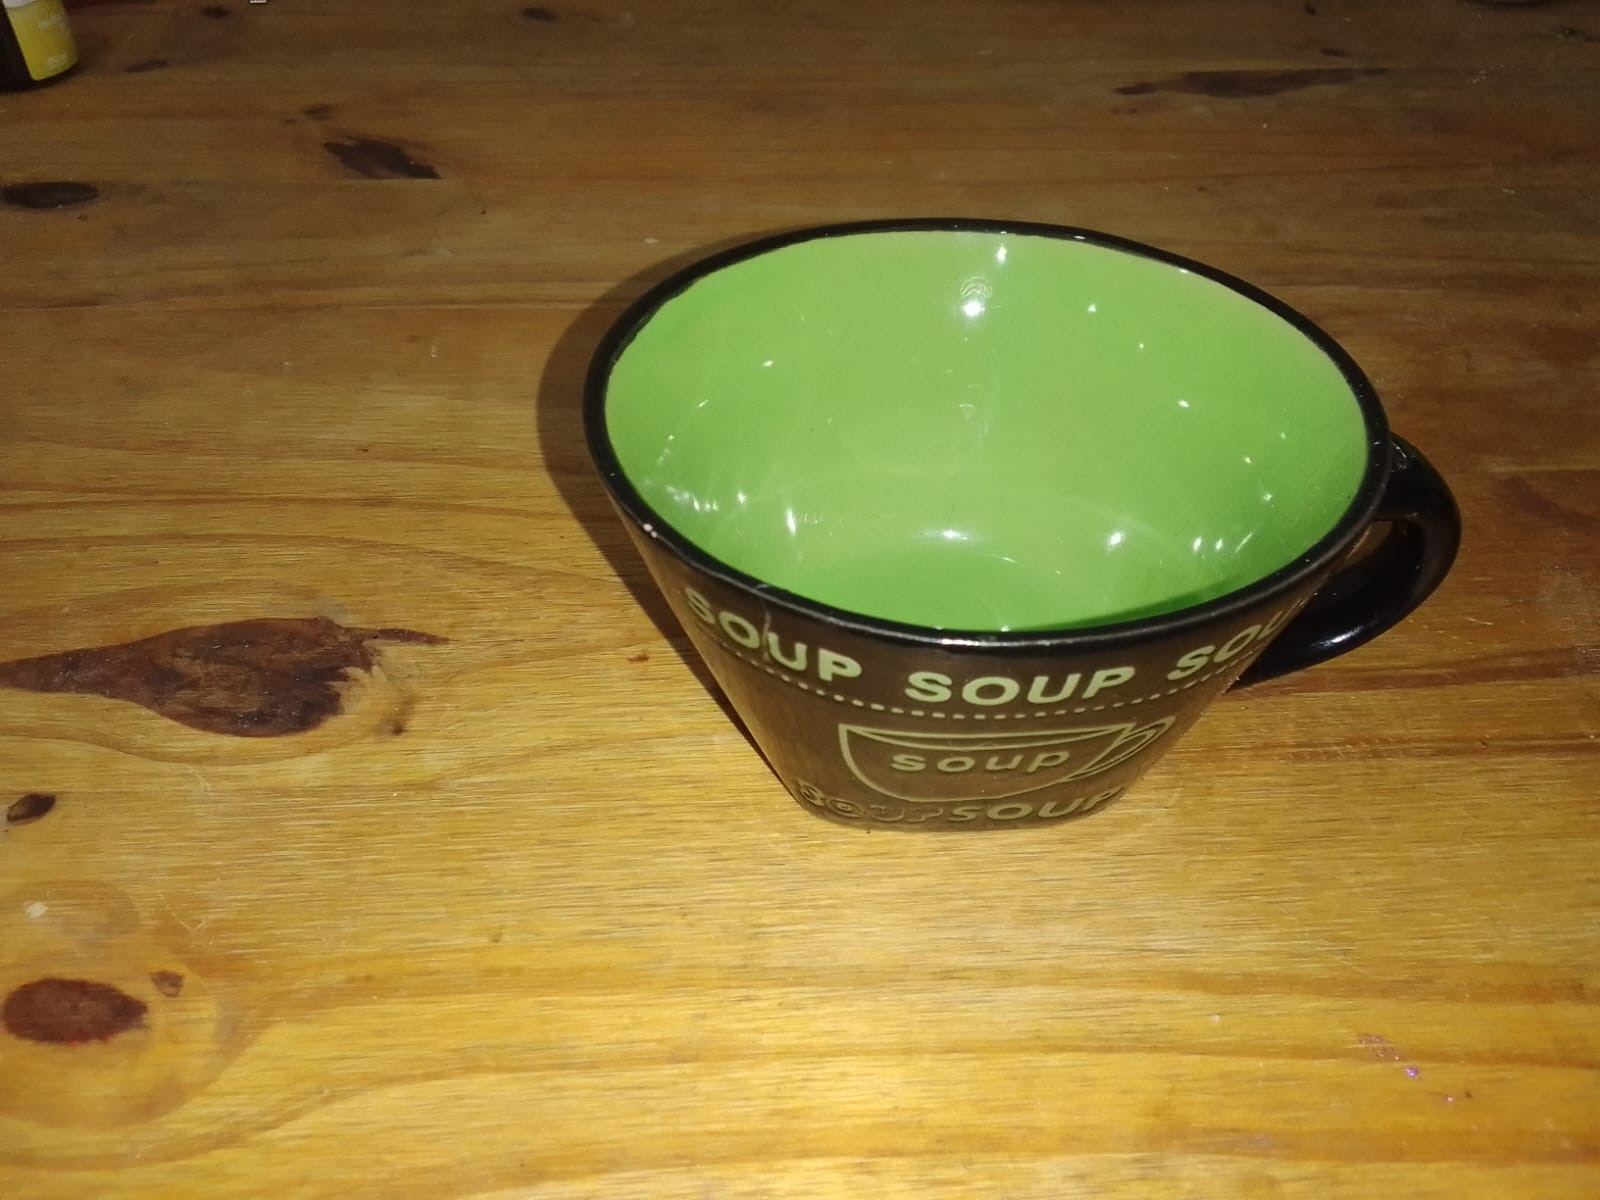dog: (587, 221, 1400, 839)
